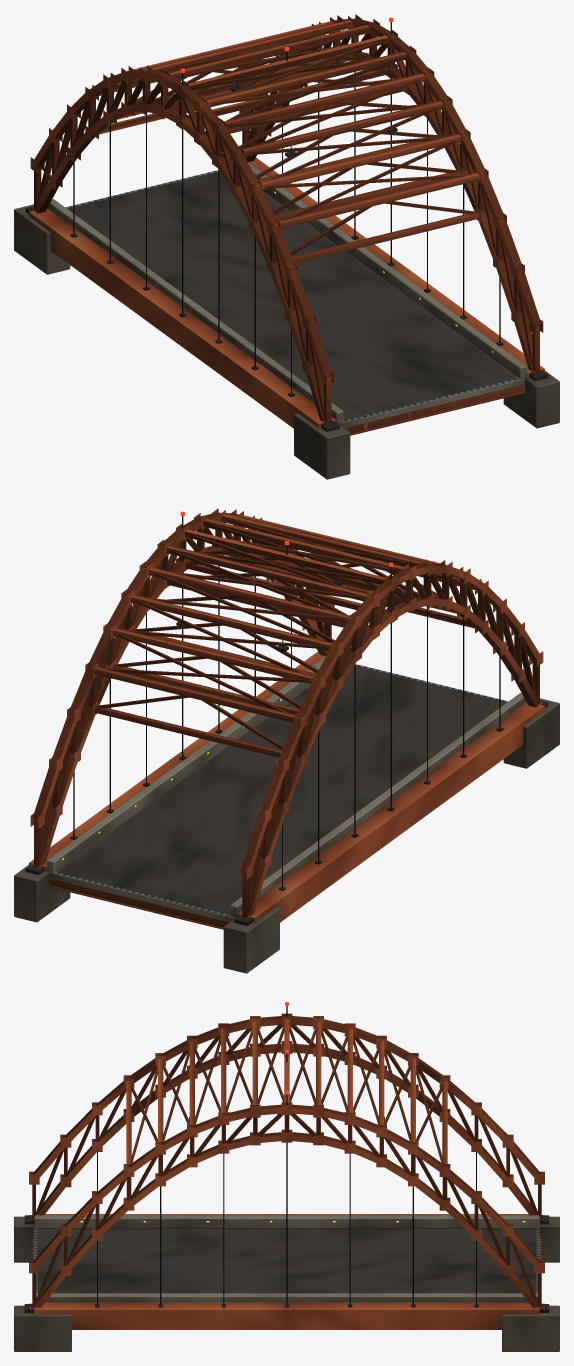
Rendered from bridge_arch.glb.
The picture shows the model from 3 angles, top to bottom: view 1: azimuth 30°, elevation 25°; view 2: azimuth 150°, elevation 25°; view 3: azimuth 270°, elevation 25°; orthographic projection. The views are drawn at different scales.
Visible parts, largest first — view 1: paint, road_surface, concrete, concrete_dark, metal_dark, metal_bare; view 2: paint, road_surface, concrete, concrete_dark, metal_dark, metal_bare; view 3: paint, road_surface, concrete, concrete_dark, metal_dark.
Part boxes in pixels (<box>): paint: <box>29,14,544,435</box>; road_surface: <box>67,172,517,420</box>; concrete: <box>47,160,526,428</box>; concrete_dark: <box>14,204,559,479</box>; metal_dark: <box>25,22,548,431</box>; metal_bare: <box>65,170,519,422</box>; paint: <box>29,508,544,929</box>; road_surface: <box>56,666,506,914</box>; concrete: <box>47,654,526,922</box>; concrete_dark: <box>14,698,559,973</box>; metal_dark: <box>25,516,548,925</box>; metal_bare: <box>54,664,508,916</box>; paint: <box>29,1013,544,1329</box>; road_surface: <box>37,1228,536,1293</box>; concrete: <box>34,1215,539,1302</box>; concrete_dark: <box>14,1216,559,1351</box>; metal_dark: <box>24,1006,549,1312</box>.
Size of what is drawn, in the model's own units: 18.6 by 22.3 by 43.2.
